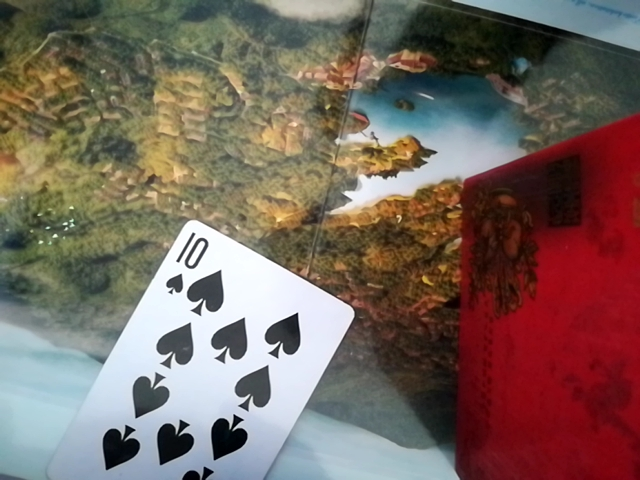ht 10: (40, 216, 356, 478)
